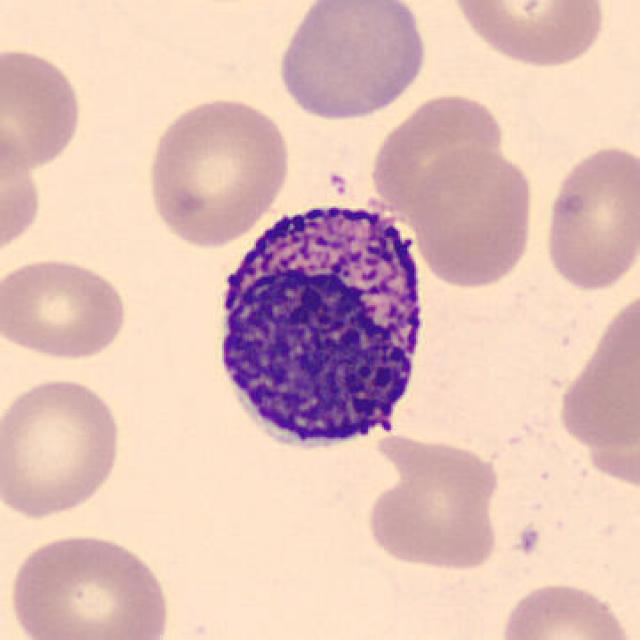Basophil: (201, 184, 437, 466)
RBC: (142, 92, 294, 250), (272, 0, 432, 125), (407, 144, 539, 291), (0, 374, 126, 524), (4, 529, 174, 640), (366, 88, 508, 220), (363, 442, 505, 574), (539, 140, 638, 294), (0, 252, 132, 363), (553, 289, 640, 455), (444, 0, 610, 71), (0, 42, 85, 174), (496, 578, 635, 640), (0, 113, 46, 266)
